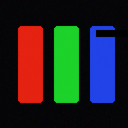3 line_h: (96, 30, 127, 36)
